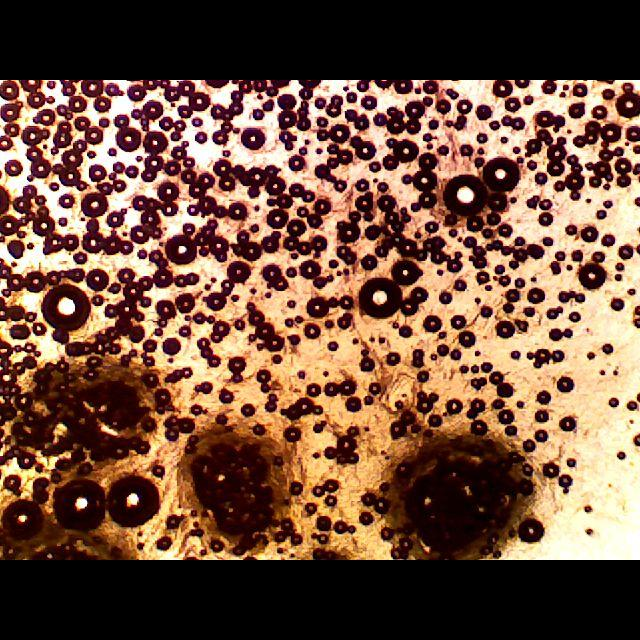microbeads: (52, 476, 108, 532), (107, 474, 161, 526), (356, 272, 406, 322), (442, 169, 488, 219), (41, 285, 90, 331), (162, 232, 198, 264)
